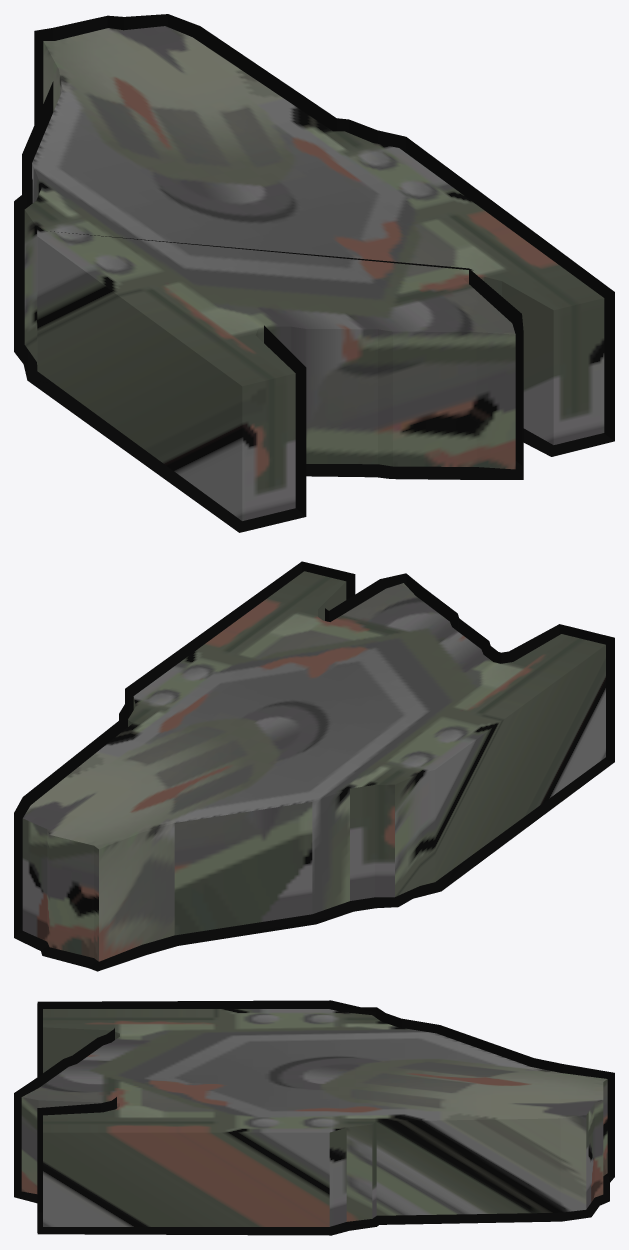
File: Building_AncientDrillPlatform_Things_Building_Ancient_DrillPlatform_AncientDrillPlatformC.glb
3 views of the same model, one above another, from view 1: azimuth 30°, elevation 25°; view 2: azimuth 150°, elevation 25°; view 3: azimuth 270°, elevation 25° (orthographic). The views are drawn at different scales.
Parts seen in each view (by area): view 1: Body, Outline; view 2: Body, Outline; view 3: Body, Outline.
Part boxes in pixels (x1,y1,x2,y2): Body: (24,26,604,520); Outline: (14,14,614,532); Body: (22,571,605,961); Outline: (14,561,614,971); Body: (21,1009,607,1226); Outline: (14,1000,614,1235).
Bounding box in the file's own units: 0.9988 × 0.3953 × 1.96.
2 materials, 1 textured.
